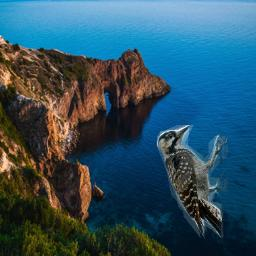Woodpecker: (156, 125, 228, 239)
